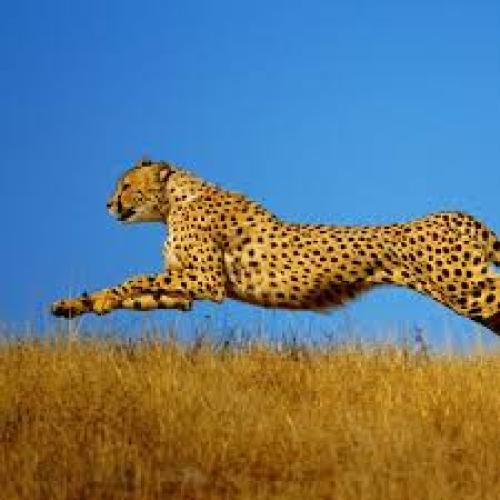cheetah-endangered: (53, 153, 500, 329)
